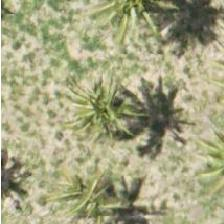coconut_tree: (57, 64, 147, 154), (75, 164, 165, 223), (134, 0, 223, 53), (0, 122, 48, 212)
